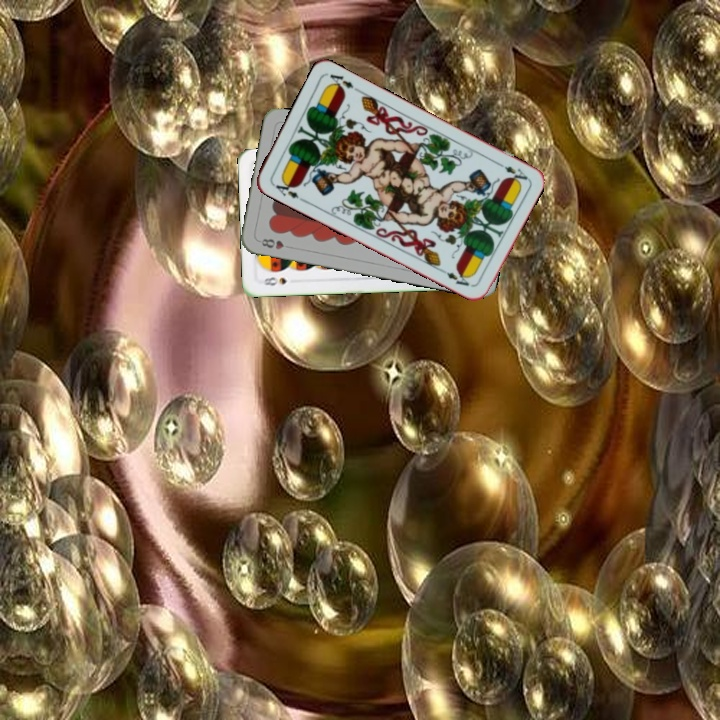EA: (269, 176, 307, 204), (492, 158, 530, 185)
H8: (258, 234, 286, 252)
S8: (257, 273, 289, 288)
